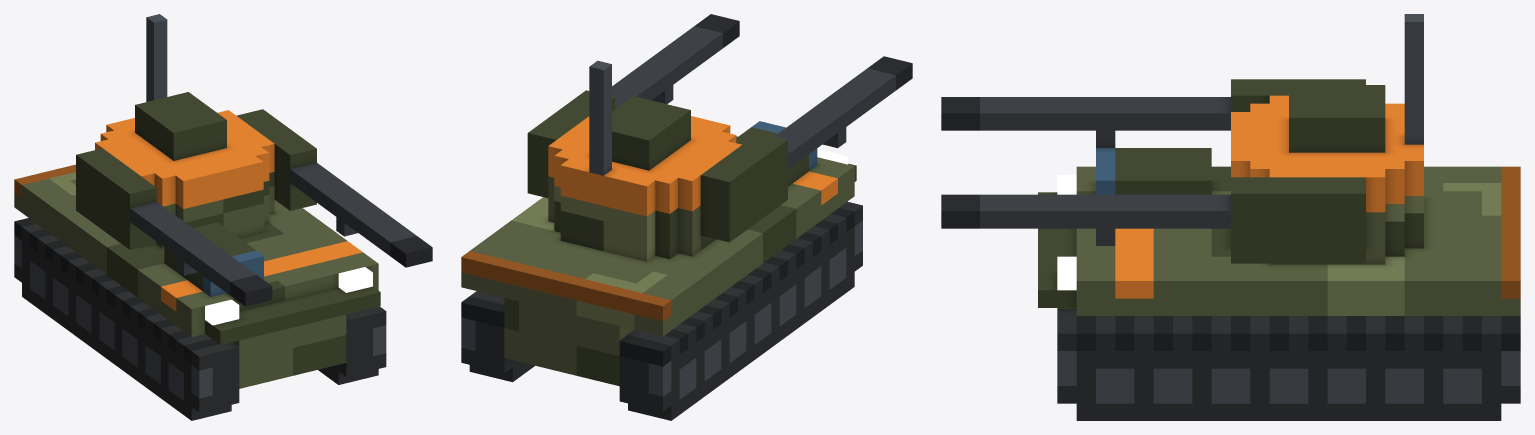
3 views of the same model, side by side, from view 1: azimuth 30°, elevation 25°; view 2: azimuth 150°, elevation 25°; view 3: azimuth 270°, elevation 25° (orthographic). The views are drawn at different scales.
Visible parts, largest first — view 1: cm_aa_5_body; view 2: cm_aa_5_body; view 3: cm_aa_5_body.
Boxes of the visible parts, x1,y1,x2,y2 form: cm_aa_5_body: (14, 14, 432, 420); cm_aa_5_body: (461, 14, 912, 420); cm_aa_5_body: (941, 14, 1520, 420).
Size of the model in its own units: 0.875 by 1.25 by 1.88.
1 material, 1 textured.
